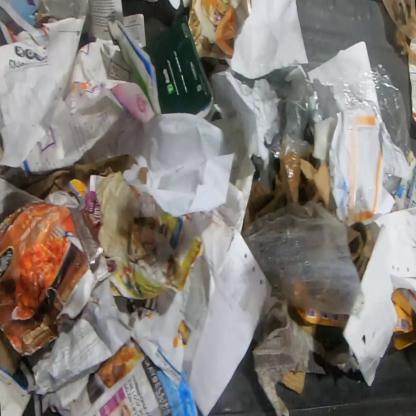cardboard: (241, 149, 376, 281), (0, 202, 104, 355), (342, 242, 398, 386), (140, 14, 214, 119), (0, 331, 25, 378), (409, 61, 415, 123)
soft_plastic: (241, 201, 366, 323), (322, 65, 412, 166), (262, 66, 324, 160), (380, 0, 415, 68), (381, 175, 401, 193)
